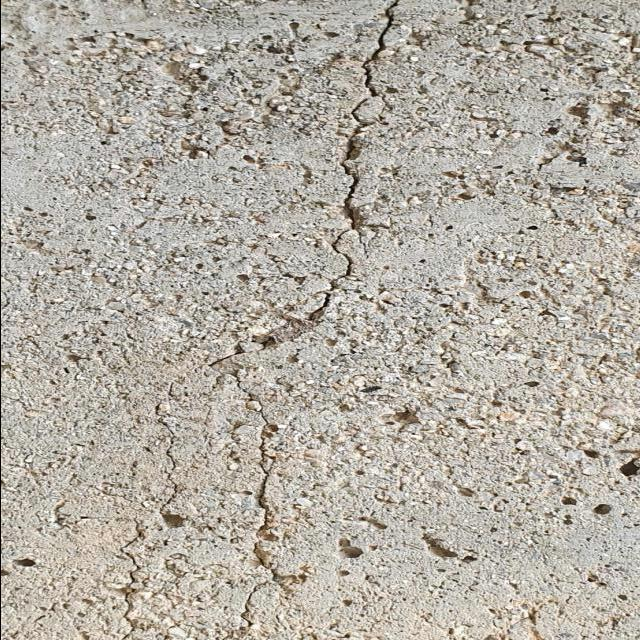SurfaceCrack: (188, 2, 438, 639)
